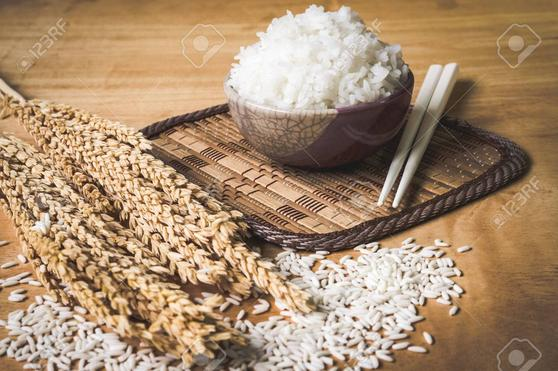rice: (226, 4, 411, 116)
